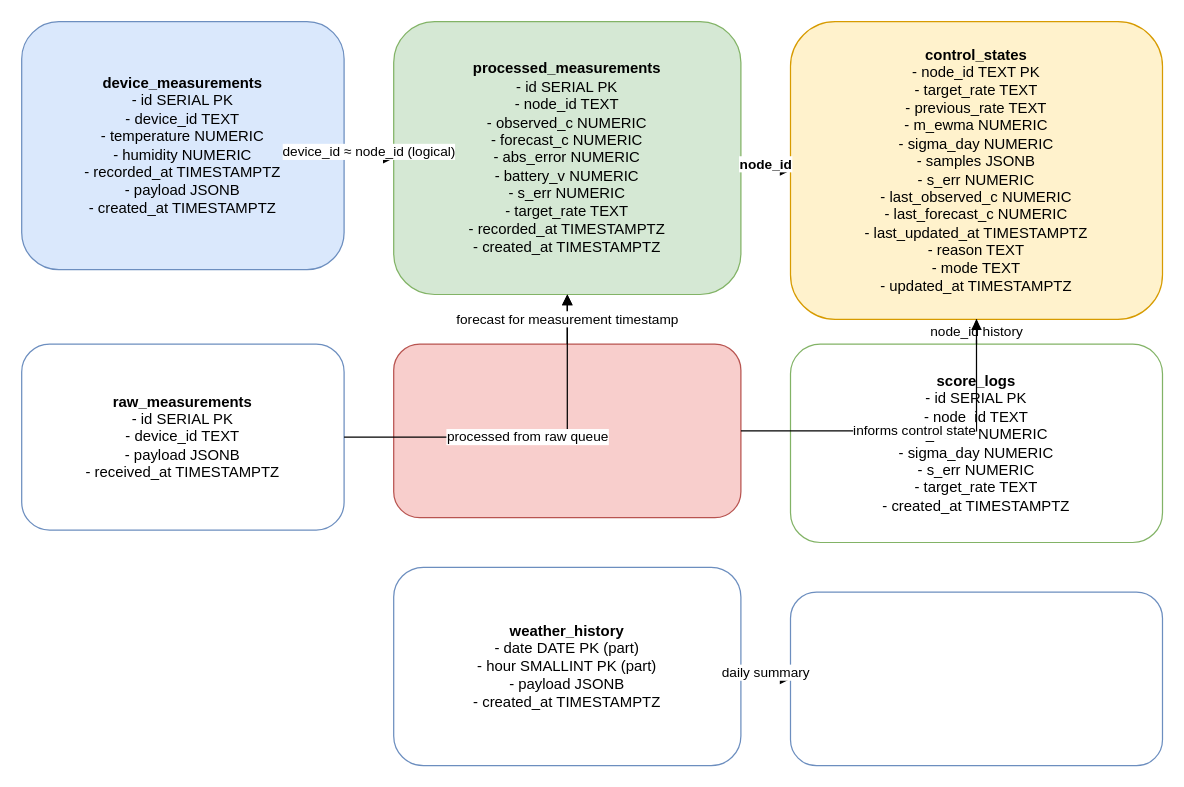
The diagram is 1184 pixels wide and 787 high, and some of its shapes have lost their labels. The shapes that lost their labels are listed below. From the top down, each one's centre as x and y in pixels, then its label:
At (x=566, y=430): "forecast_snapshots - id SERIAL PK - snapshot JSONB - fetched_at TIMESTAMPTZ".
At (x=975, y=678): "weather_daily_summary - date DATE PK - summary JSONB - generated_at TIMESTAMPTZ".
